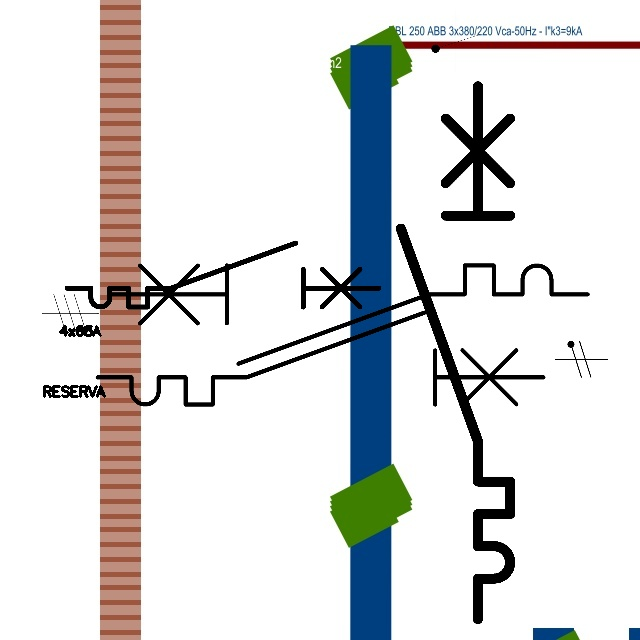interruptor_termomagnetico: (387, 72, 524, 632), (98, 253, 600, 376), (86, 301, 555, 416), (59, 235, 387, 315)
